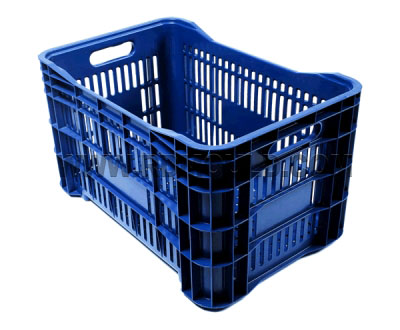Rec_Plastic: (27, 1, 355, 305)
